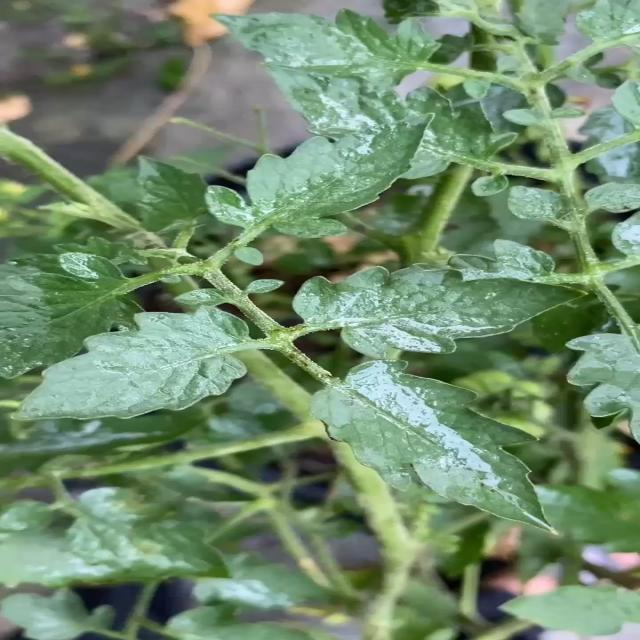Tomato_Healthy: (306, 365, 594, 548), (196, 108, 439, 249), (12, 303, 256, 441), (293, 260, 587, 357)
